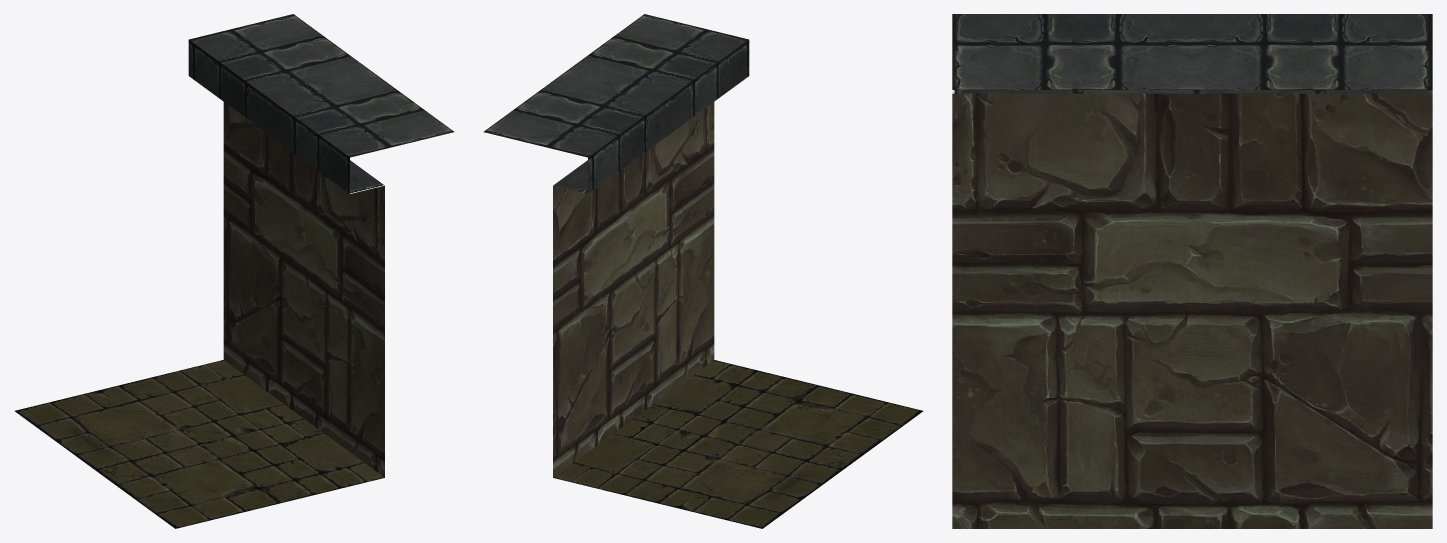
File: wall_tile_001.FBX
3 renders of one model, left to right at view 1: azimuth 30°, elevation 25°; view 2: azimuth 150°, elevation 25°; view 3: azimuth 270°, elevation 25°, orthographic. The views are drawn at different scales.
Visible parts, largest first — view 1: wall_001; view 2: wall_001; view 3: wall_001.
Boxes of the visible parts, <box> form: wall_001: <box>15,14,453,528</box>; wall_001: <box>484,14,922,528</box>; wall_001: <box>952,14,1432,528</box>.
Bounding box in the file's own units: 40 × 45 × 40.
1 material, 1 textured.
